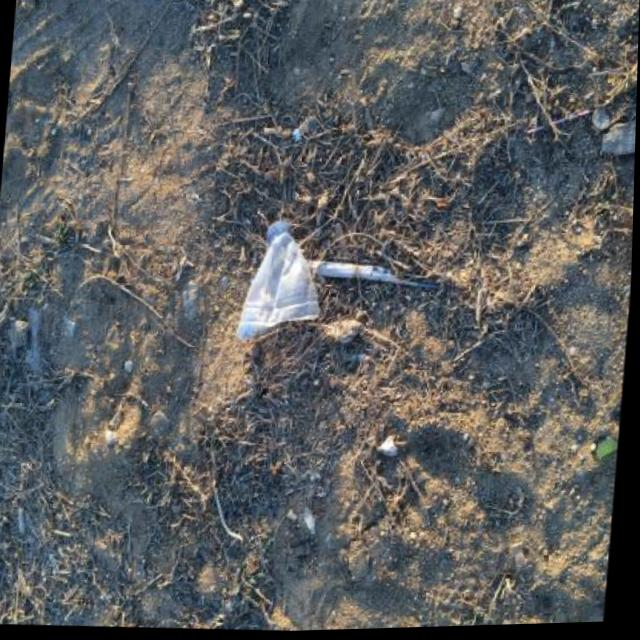plastic: (236, 216, 329, 347)
